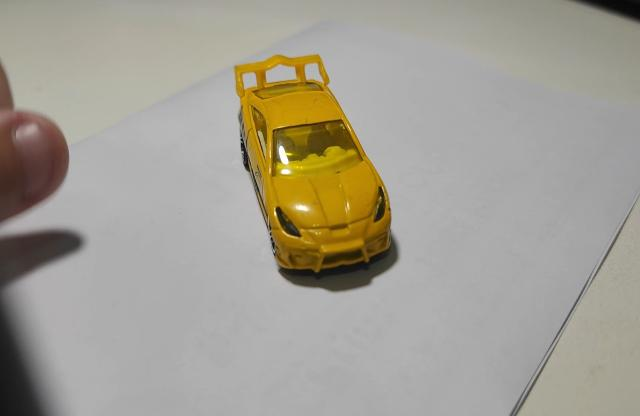07_RHLTURBO: (232, 55, 396, 274)
